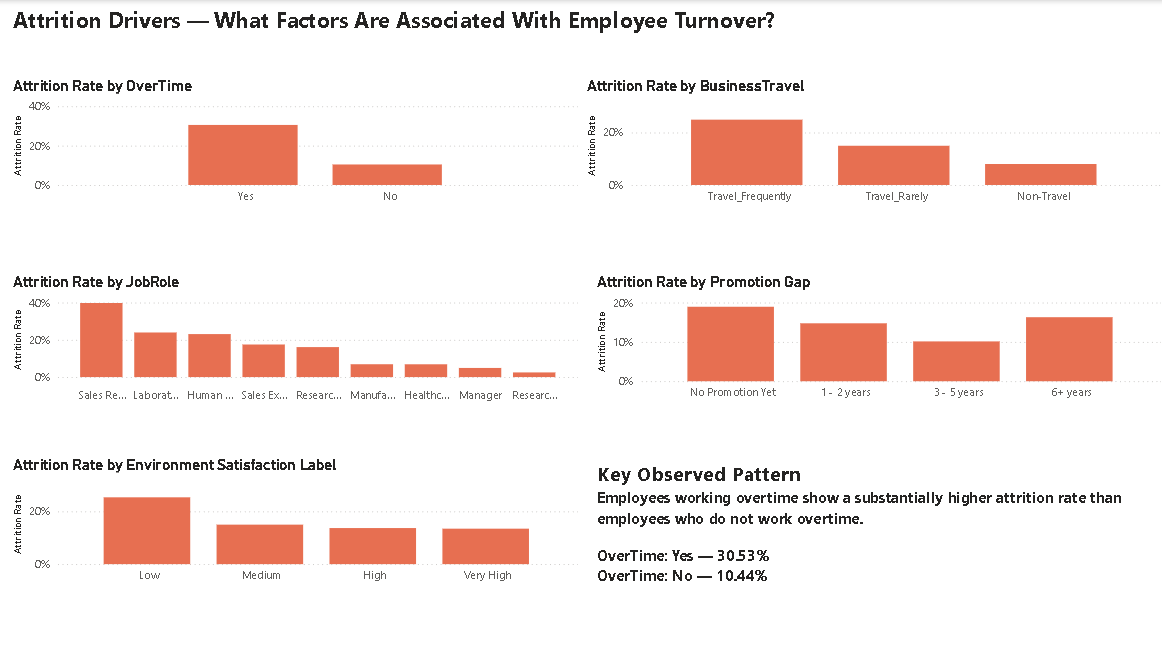

The page's visual inventory and layout, read from the dashboard file:
{"tool":"powerbi","page":{"name":"Attrition Drivers","canvas":[1280,720],"ordinal":1},"visuals":[{"type":"textbox","box":[9.6,0,848,59],"z":0},{"type":"clusteredColumnChart","fields":{"Category":["Employees.OverTime"],"Y":["Employees.Attrition Rate"]},"box":[9.6,83.7,629.8,149.6],"z":1000},{"type":"clusteredColumnChart","fields":{"Category":["Employees.BusinessTravel"],"Y":["Employees.Attrition Rate"]},"box":[639.5,83.7,640.8,149.6],"z":2000},{"type":"clusteredColumnChart","fields":{"Category":["Employees.JobRole"],"Y":["Employees.Attrition Rate"]},"box":[10,299,630,150],"z":3000},{"type":"clusteredColumnChart","fields":{"Category":["Employees.Promotion Gap"],"Y":["Employees.Attrition Rate"]},"box":[650.4,299.1,629.8,149.6],"z":4000},{"type":"clusteredColumnChart","fields":{"Y":["Employees.Attrition Rate"],"Category":["Employees.Environment Satisfaction Label"]},"box":[10,499.5,630,150],"z":5000},{"type":"textbox","box":[650,500,630,150],"z":6000}]}

Visuals, with their boxes in screenshot pixels (x1, y1, x2, y2), scaled from the page's 1280x720 canvas onto the 1162x647 screenshot:
textbox: locate(9, 0, 779, 53)
clusteredColumnChart - Employees.OverTime x Employees.Attrition Rate: locate(9, 75, 580, 210)
clusteredColumnChart - Employees.BusinessTravel x Employees.Attrition Rate: locate(581, 75, 1161, 210)
clusteredColumnChart - Employees.JobRole x Employees.Attrition Rate: locate(9, 269, 581, 403)
clusteredColumnChart - Employees.Promotion Gap x Employees.Attrition Rate: locate(590, 269, 1161, 403)
clusteredColumnChart - Employees.Attrition Rate x Employees.Environment Satisfaction Label: locate(9, 449, 581, 584)
textbox: locate(590, 449, 1161, 584)
